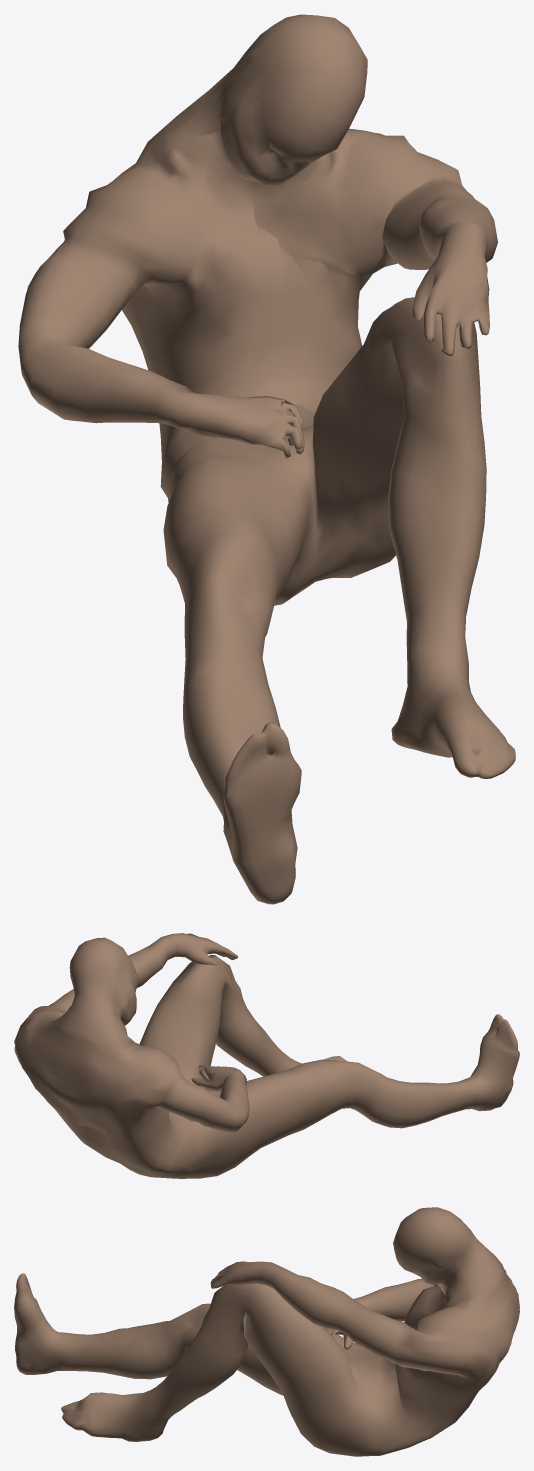
Rendered from ZombieDeadPoseIII.fbx.
3 renders of one model, top to bottom at view 1: azimuth 30°, elevation 25°; view 2: azimuth 150°, elevation 25°; view 3: azimuth 270°, elevation 25°, orthographic. The views are drawn at different scales.
Visible parts, largest first — view 1: Zombie002; view 2: Zombie002; view 3: Zombie002.
Boxes of the visible parts, x1=… form: Zombie002: x1=18, y1=14, x2=515, y2=904; Zombie002: x1=14, y1=933, x2=519, y2=1178; Zombie002: x1=14, y1=1207, x2=519, y2=1456.
Bounding box in the file's own units: 90.56 × 72.62 × 122.
